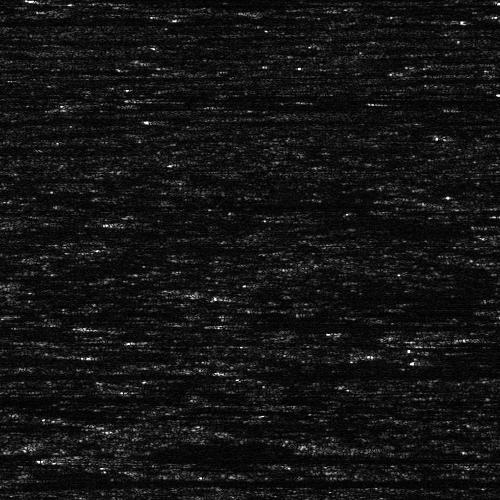object: (27, 453, 152, 464), (96, 95, 169, 100), (96, 219, 169, 224), (0, 476, 39, 485), (471, 11, 500, 20), (215, 323, 256, 326)
shadow: (0, 476, 472, 485), (89, 453, 338, 464), (0, 15, 226, 26), (133, 95, 500, 100), (0, 371, 161, 380), (236, 323, 496, 326), (0, 226, 52, 235), (133, 219, 217, 224), (0, 51, 63, 56)
